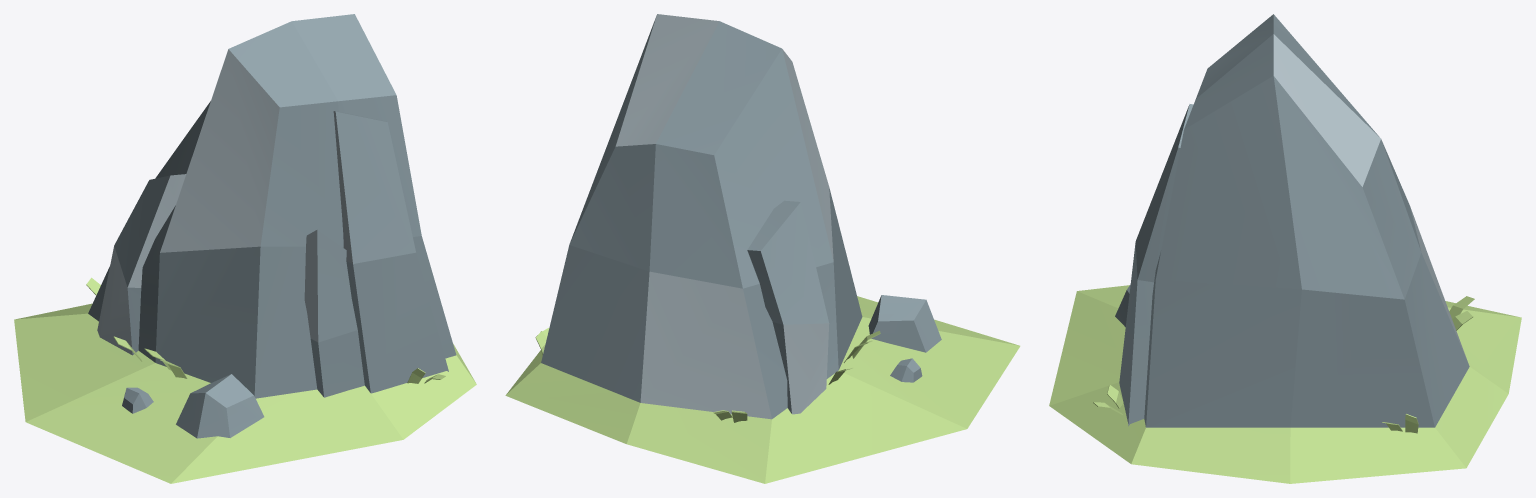
The model's file is rock.fbx.
3 renders of one model, left to right at view 1: azimuth 30°, elevation 25°; view 2: azimuth 150°, elevation 25°; view 3: azimuth 270°, elevation 25°, orthographic. The views are drawn at different scales.
Parts seen in each view (by area): view 1: boulder_01_Cube.009; view 2: boulder_01_Cube.009; view 3: boulder_01_Cube.009.
Boxes of the visible parts, left/top/right/bottom form: boulder_01_Cube.009: left=14, top=14, right=476, bottom=483; boulder_01_Cube.009: left=505, top=14, right=1020, bottom=483; boulder_01_Cube.009: left=1049, top=14, right=1521, bottom=483.
Size of the model in its own units: 25001 by 19798 by 23034.
